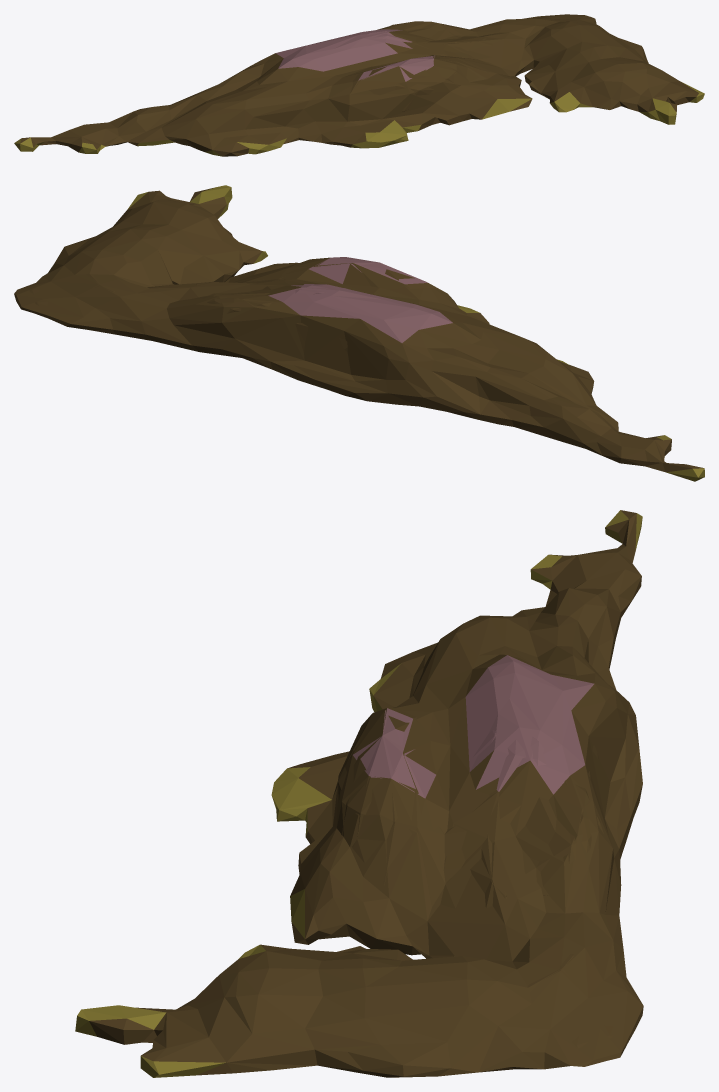
The model's file is PulauSenggarang.fbx.
3 renders of one model, top to bottom at view 1: azimuth 30°, elevation 25°; view 2: azimuth 150°, elevation 25°; view 3: azimuth 270°, elevation 25°, orthographic. The views are drawn at different scales.
Visible parts, largest first — view 1: PULAU SENGGARANG.001; view 2: PULAU SENGGARANG.001; view 3: PULAU SENGGARANG.001.
Boxes of the visible parts, x1,y1,x2,y2 form: PULAU SENGGARANG.001: (14, 14, 704, 156); PULAU SENGGARANG.001: (14, 185, 704, 481); PULAU SENGGARANG.001: (75, 510, 643, 1077).
Bounding box in the file's own units: 6577 × 607 × 2839.
